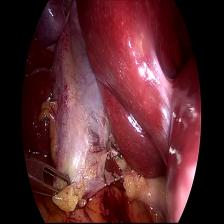Grasper: (25, 150, 72, 205)
